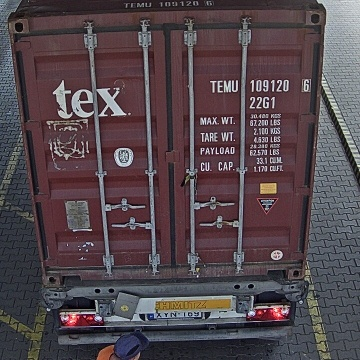serial_id: (210, 79, 310, 92)
